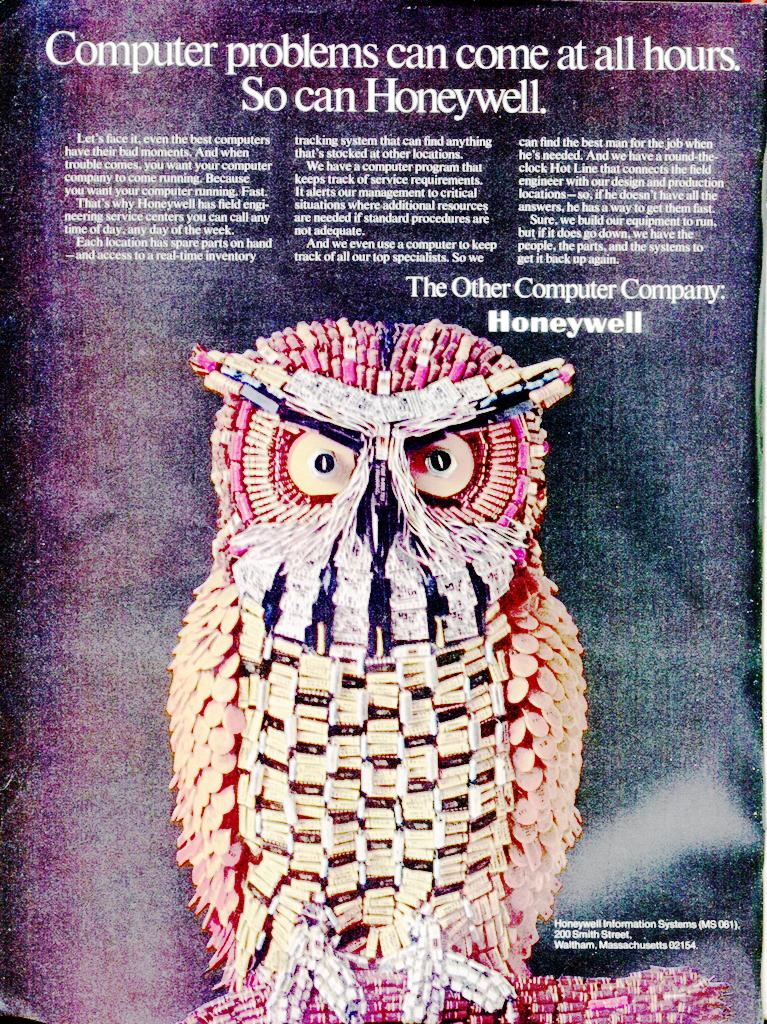Owl: (164, 318, 577, 1023)
